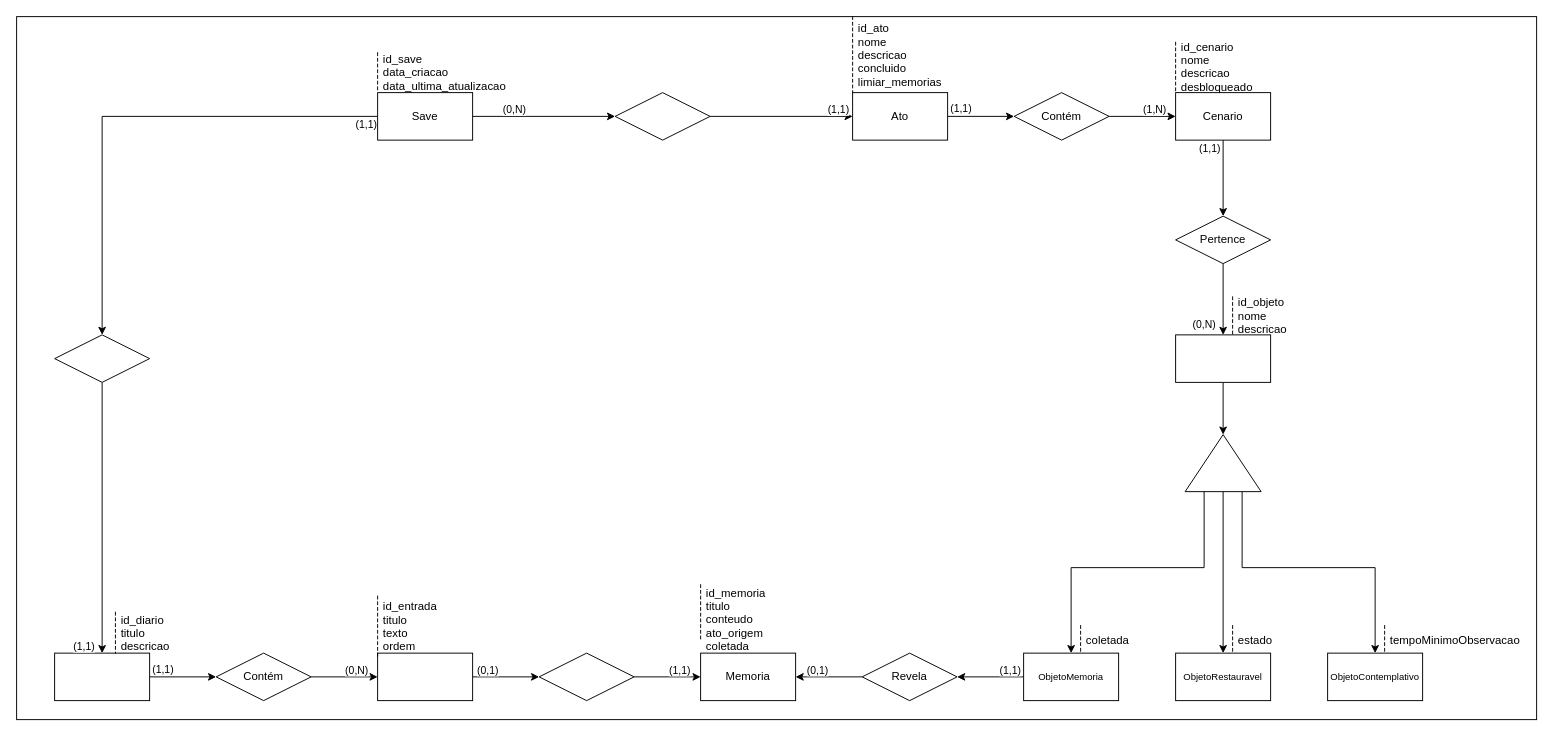
Image size: 1553x736. Some labels were removed from this diagram. Here are the shapes that lost their labels. From the top down, the box of each, then its label:
(614, 92, 710, 140): estaEm
(54, 334, 150, 382): Possui
(1175, 334, 1271, 382): ObjetoInterativo
(54, 652, 150, 701): Diario
(377, 652, 473, 701): EntradaDiario
(538, 652, 634, 701): Referencia
